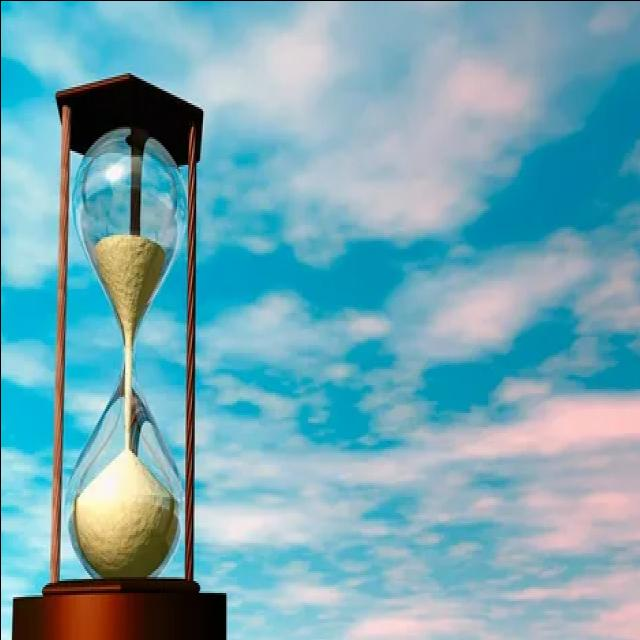clock: (0, 59, 231, 612)
